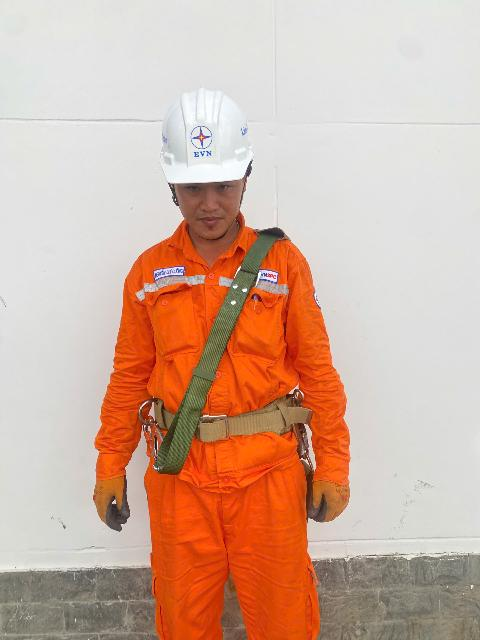gloves: (120, 388, 312, 465), (88, 460, 141, 545), (300, 480, 354, 522)
helmet: (140, 83, 259, 202)
